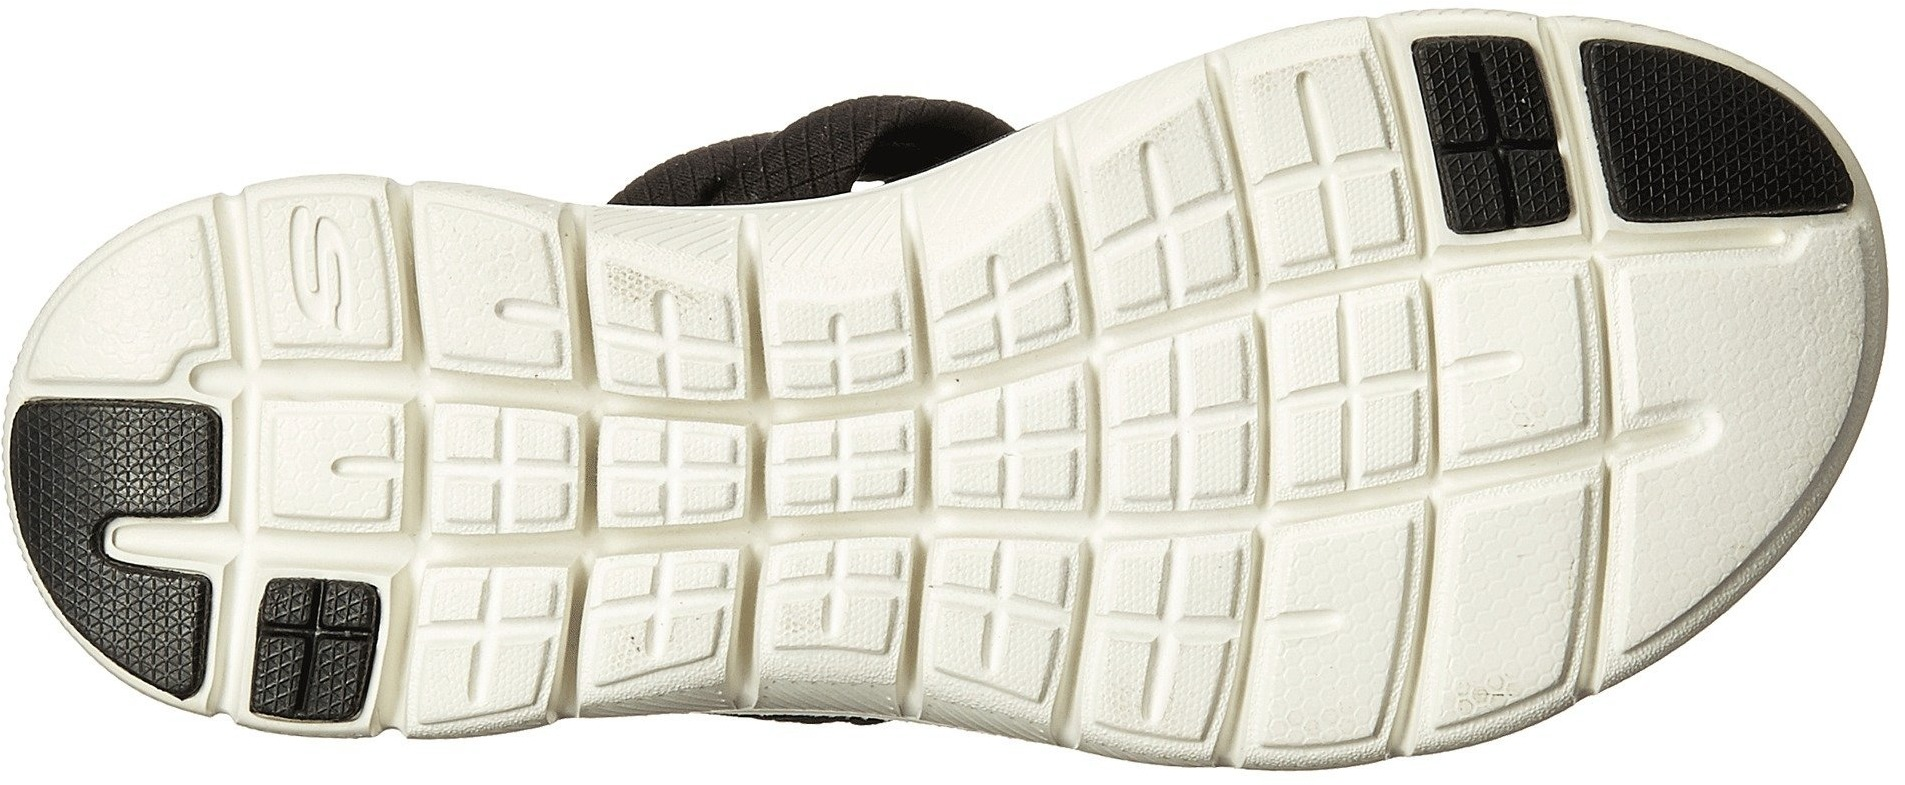other: (1613, 55, 1777, 213)
quad: (1092, 97, 1419, 444), (761, 419, 1065, 707), (1120, 447, 1423, 713), (1384, 30, 1609, 248), (1421, 262, 1629, 465), (241, 375, 416, 544), (430, 385, 603, 544), (230, 569, 397, 723), (922, 242, 1072, 385), (407, 584, 558, 725), (586, 546, 734, 687), (778, 290, 893, 394)
text: (265, 207, 388, 345)
